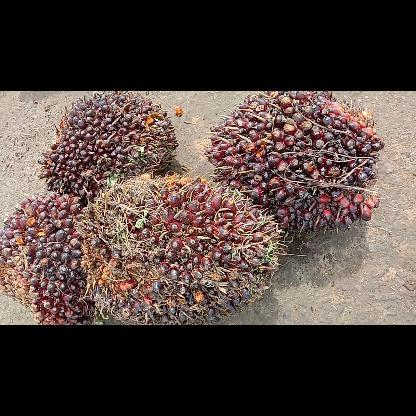Kurang masak: (75, 170, 288, 322), (204, 90, 384, 233), (37, 91, 177, 207), (0, 192, 95, 324)
